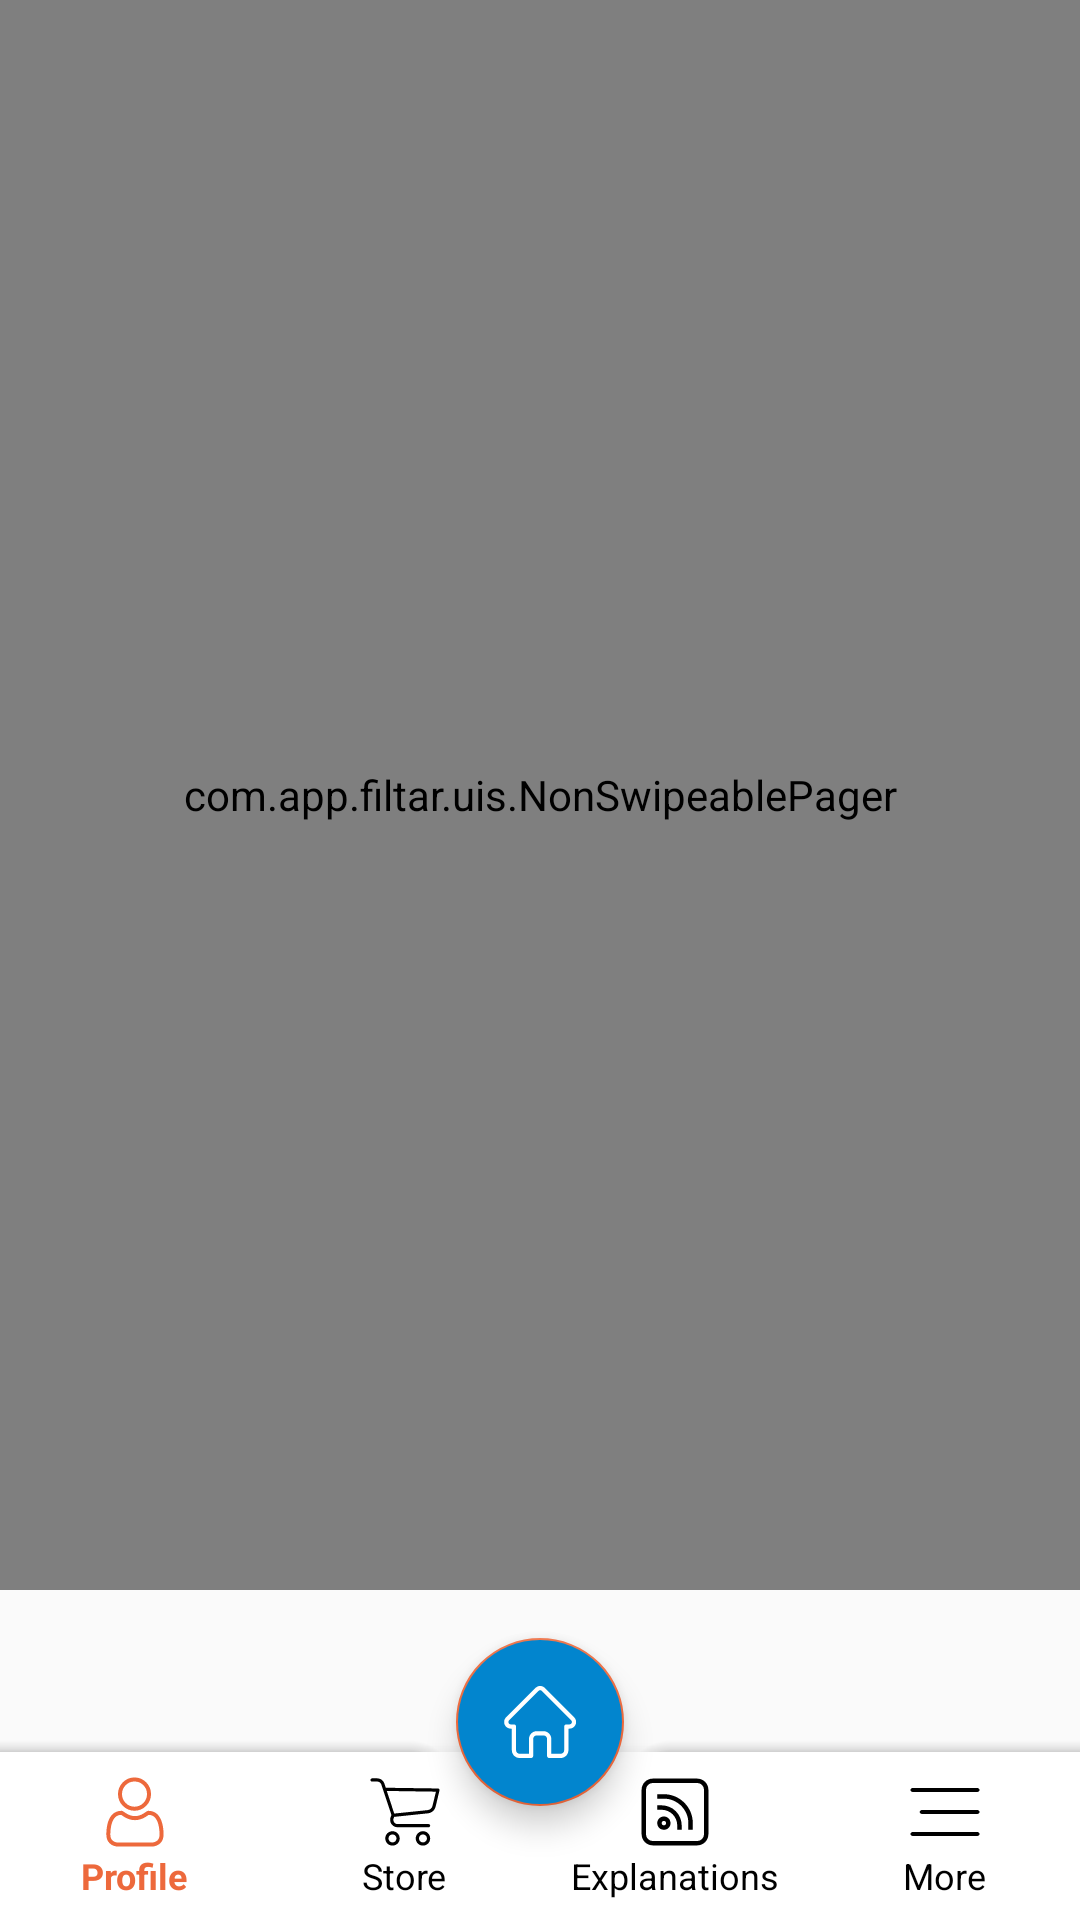

Where icons sit on this 1080 x 1920 app screen, as {"left": x1, "top": y1, "right": x2, "bottom": y2}:
home: {"left": 456, "top": 1668, "right": 624, "bottom": 1821}
